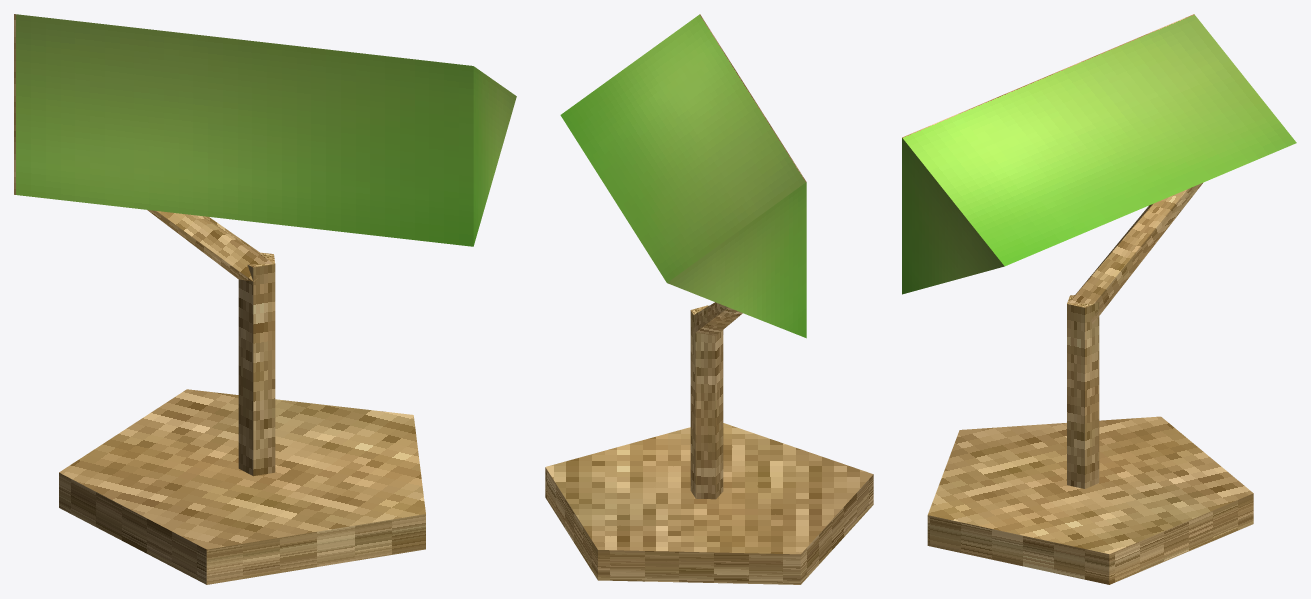
Rendered from object_lamp.glb.
The picture shows the model from 3 angles, left to right: view 1: azimuth 30°, elevation 25°; view 2: azimuth 150°, elevation 25°; view 3: azimuth 270°, elevation 25°; orthographic projection. The views are drawn at different scales.
Parts seen in each view (by area): view 1: Lamp; view 2: Lamp; view 3: Lamp.
Boxes of the visible parts, x1,y1,x2,y2 form: Lamp: (14,14,516,584); Lamp: (545,14,873,584); Lamp: (902,14,1296,584).
Bounding box in the file's own units: 0.2389 × 0.2819 × 0.2389.
Materials: 1 (1 with a texture image).
